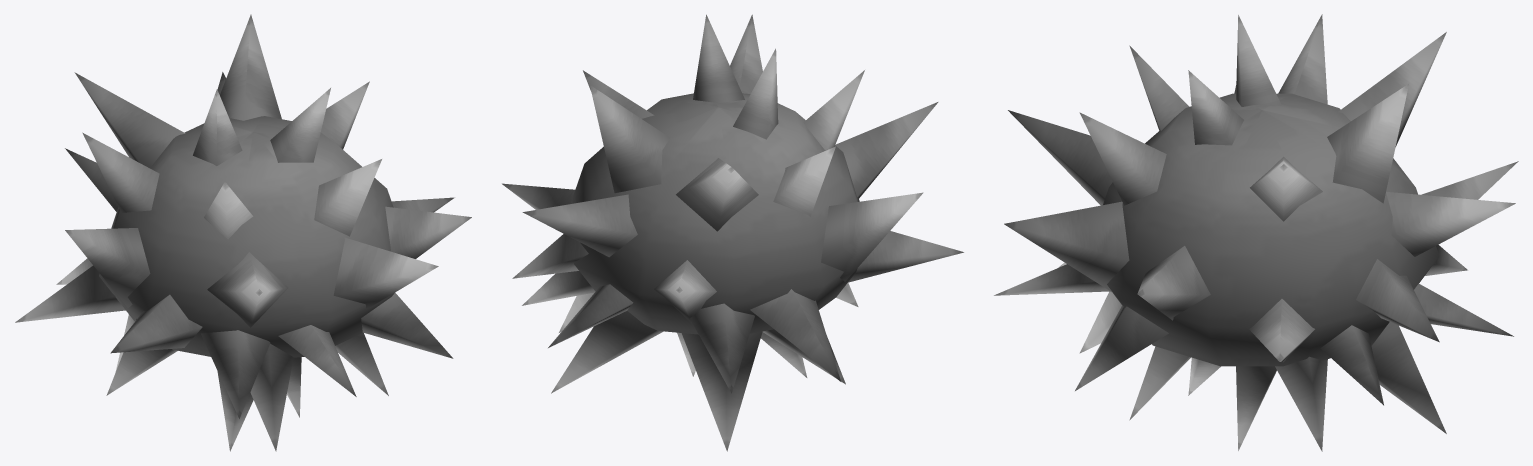
Rendered from throw10200010.fbx.
3 renders of one model, left to right at view 1: azimuth 30°, elevation 25°; view 2: azimuth 150°, elevation 25°; view 3: azimuth 270°, elevation 25°, orthographic. The views are drawn at different scales.
Visible parts, largest first — view 1: throw10200010; view 2: throw10200010; view 3: throw10200010.
Part boxes in pixels (box(x1,y1,x2,y2)): throw10200010: box(15, 14, 471, 451); throw10200010: box(502, 14, 963, 451); throw10200010: box(994, 14, 1518, 451).
Bounding box in the file's own units: 0.2986 × 0.2454 × 0.2983.
